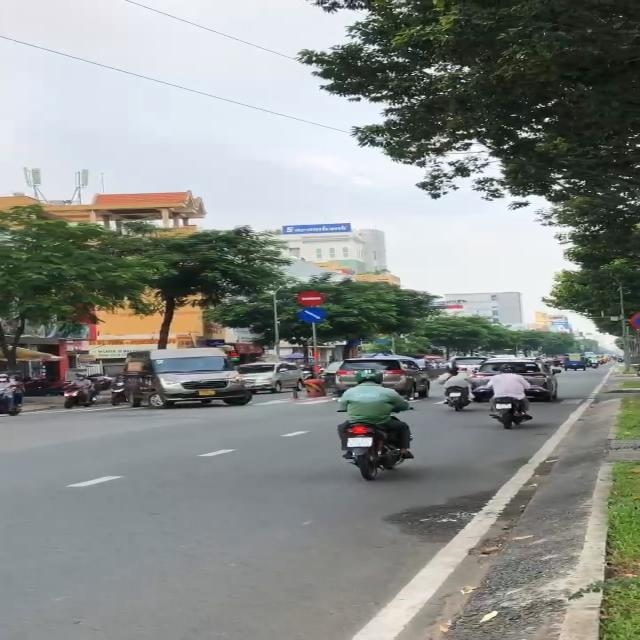Bien bao cam di nguoc chieu: (294, 289, 327, 307)
Bien bao huong phai di vong chuong ngai vat: (298, 306, 329, 325)
